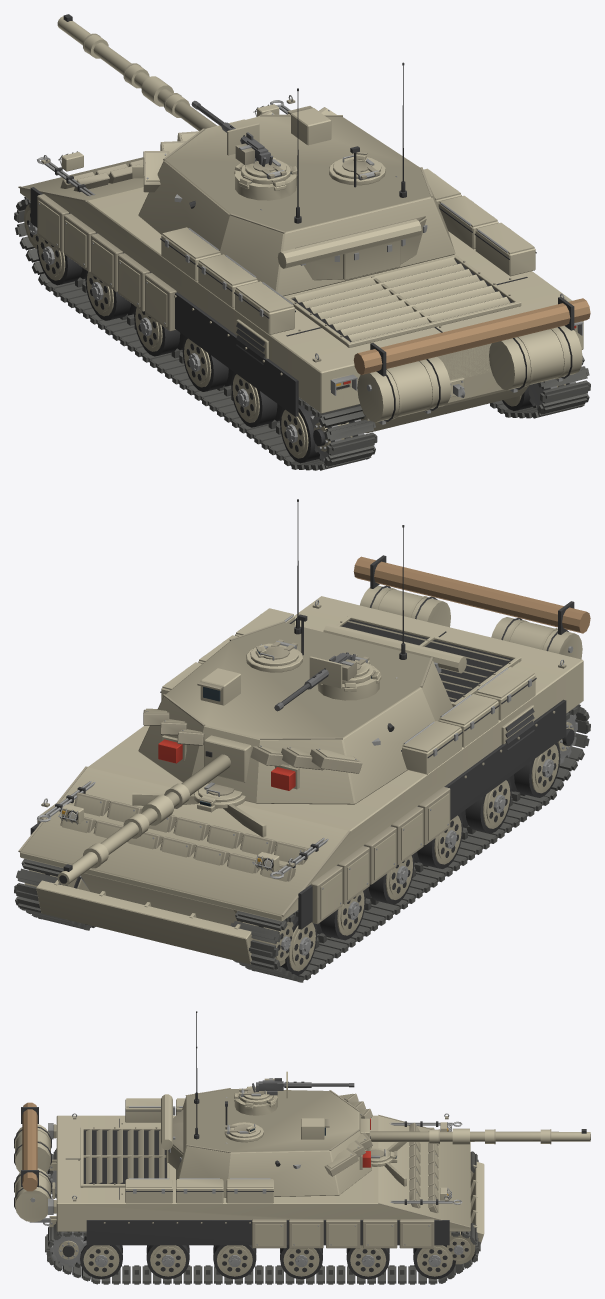
The model's file is rus_mbt_90a.glb.
3 renders of one model, top to bottom at view 1: azimuth 30°, elevation 25°; view 2: azimuth 150°, elevation 25°; view 3: azimuth 270°, elevation 25°, orthographic. The views are drawn at different scales.
Visible parts, largest first — view 1: body, turret, barrel; view 2: body, turret, barrel; view 3: body, turret, barrel.
Boxes of the visible parts, bbox=[...] form: body: bbox=[14, 95, 590, 470]; turret: bbox=[138, 62, 455, 296]; barrel: bbox=[57, 14, 244, 131]; body: bbox=[14, 555, 590, 982]; turret: bbox=[138, 499, 466, 804]; barrel: bbox=[57, 735, 251, 885]; body: bbox=[14, 1098, 484, 1284]; turret: bbox=[161, 1011, 372, 1197]; barrel: bbox=[360, 1118, 590, 1150].
Size of the model in its own units: 3.78 by 3.92 by 9.69.
